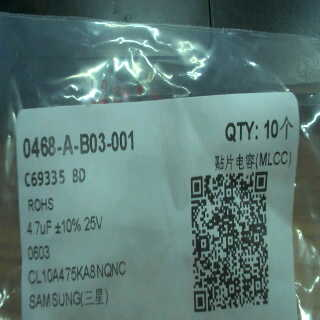4.7uF: (25, 218, 55, 241)
